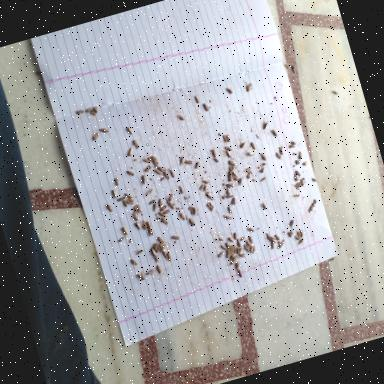pbw: (98, 124, 110, 136), (166, 198, 176, 212), (136, 270, 146, 282), (238, 140, 249, 150), (105, 202, 114, 214), (227, 156, 236, 168), (177, 209, 186, 221), (226, 169, 234, 182), (159, 209, 169, 219), (90, 130, 100, 140), (135, 246, 145, 256), (176, 112, 186, 122), (144, 186, 154, 196), (224, 142, 233, 153), (75, 107, 86, 116), (164, 170, 172, 182), (132, 138, 140, 150), (136, 202, 144, 214), (141, 155, 151, 164), (230, 196, 239, 206), (126, 168, 136, 177), (224, 181, 234, 190), (124, 191, 134, 200), (156, 262, 164, 273), (156, 197, 164, 208), (122, 226, 130, 237), (157, 235, 165, 246), (128, 146, 136, 156), (160, 216, 168, 226), (202, 100, 210, 110), (130, 257, 138, 267), (275, 151, 283, 161), (117, 235, 127, 243), (184, 158, 194, 166), (170, 234, 180, 242), (132, 204, 140, 214), (116, 194, 126, 202), (244, 238, 252, 248), (158, 164, 166, 174), (131, 211, 139, 221), (178, 156, 186, 166), (264, 232, 272, 242), (248, 244, 256, 254), (247, 224, 255, 234), (226, 84, 234, 94), (154, 166, 162, 176), (127, 125, 134, 136), (114, 176, 121, 187), (235, 176, 244, 184), (228, 253, 236, 262), (166, 250, 172, 262), (153, 242, 160, 252), (141, 220, 148, 230), (243, 242, 250, 252), (189, 216, 196, 226), (232, 169, 239, 179), (141, 174, 148, 184), (111, 189, 118, 199), (260, 152, 267, 162), (148, 225, 154, 236), (162, 249, 168, 260), (135, 220, 141, 231), (272, 126, 278, 137), (194, 92, 200, 103), (153, 155, 159, 166), (128, 196, 136, 204), (144, 164, 152, 172), (278, 240, 286, 248), (148, 268, 156, 276), (298, 237, 306, 245), (274, 233, 282, 241), (194, 160, 202, 168), (330, 88, 338, 96), (168, 192, 175, 201), (147, 220, 154, 229), (123, 198, 129, 208), (150, 246, 156, 256), (237, 268, 243, 278), (251, 140, 257, 150), (211, 147, 217, 157), (178, 184, 184, 194), (298, 150, 304, 160), (226, 133, 232, 143), (296, 228, 302, 238), (154, 253, 160, 263), (226, 193, 236, 199), (148, 198, 158, 204), (170, 168, 176, 178), (300, 177, 306, 187), (222, 133, 228, 143), (231, 232, 238, 240), (248, 149, 255, 157), (238, 235, 246, 242), (206, 192, 213, 200), (288, 219, 296, 226), (213, 155, 220, 163), (220, 243, 228, 250), (127, 198, 134, 206), (228, 236, 236, 243), (244, 165, 252, 172), (263, 121, 270, 129), (292, 63, 297, 74), (269, 240, 275, 249), (300, 229, 306, 238), (260, 199, 266, 208), (152, 202, 158, 211), (162, 208, 171, 214), (294, 172, 300, 181), (296, 169, 302, 178), (228, 204, 233, 214), (160, 243, 167, 250), (225, 214, 232, 221), (160, 204, 168, 210), (272, 236, 278, 244), (259, 176, 267, 182), (260, 161, 268, 167), (235, 260, 241, 268), (218, 251, 226, 257), (86, 106, 94, 112), (278, 146, 284, 154), (238, 252, 246, 258), (249, 235, 254, 244), (202, 178, 209, 184), (231, 258, 238, 264), (303, 160, 310, 166), (193, 207, 199, 214), (199, 184, 206, 190), (226, 240, 231, 248), (236, 238, 241, 246), (294, 234, 300, 240), (291, 140, 297, 146), (294, 192, 300, 198), (226, 186, 230, 195), (252, 245, 256, 253), (285, 63, 290, 69), (234, 254, 240, 259), (271, 234, 276, 240), (290, 144, 296, 148)
